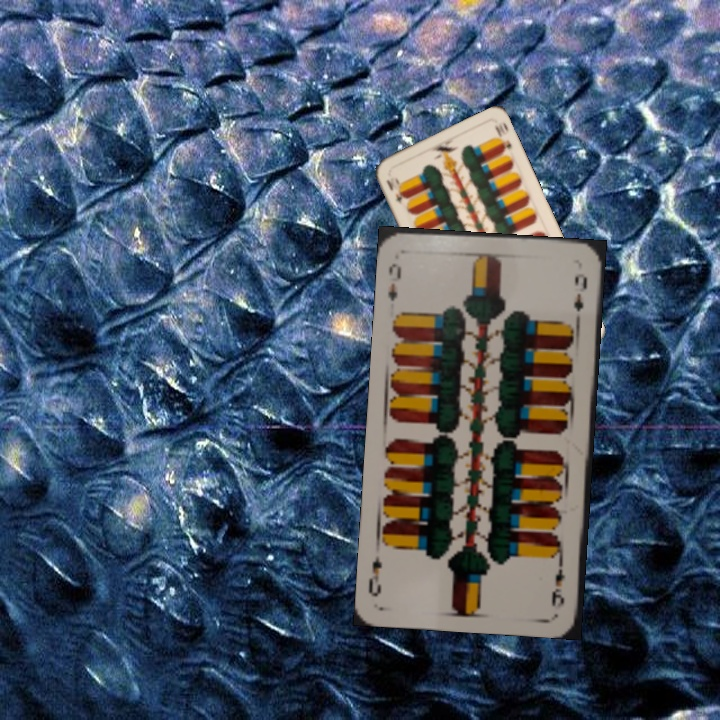E10: (382, 173, 408, 206)
E9: (547, 553, 567, 612), (384, 259, 404, 304)
